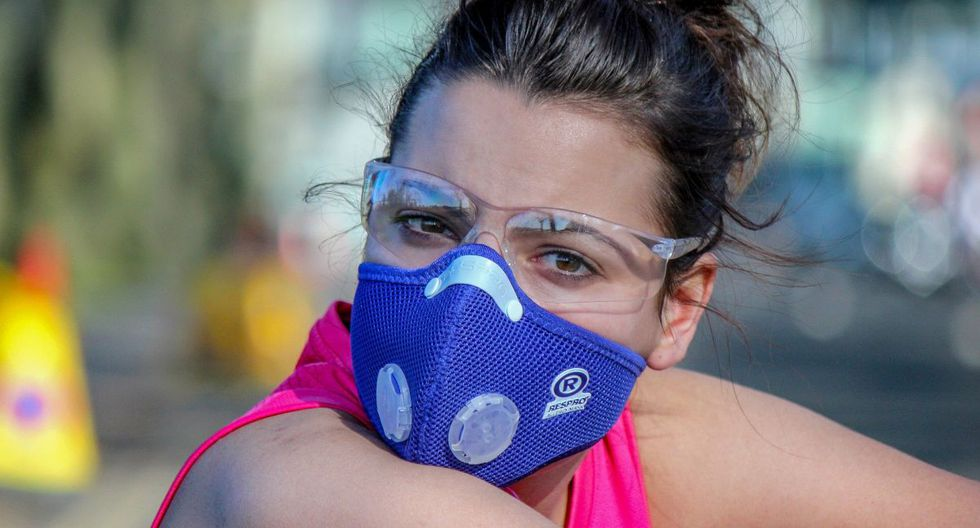with_mask: (331, 10, 788, 493)
